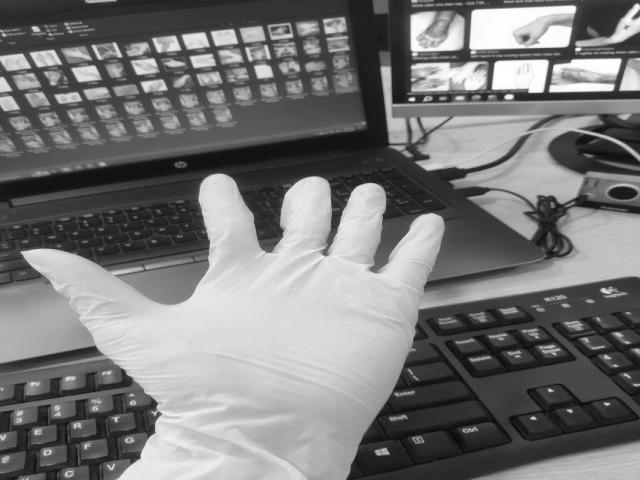gloved: (22, 173, 444, 480)
